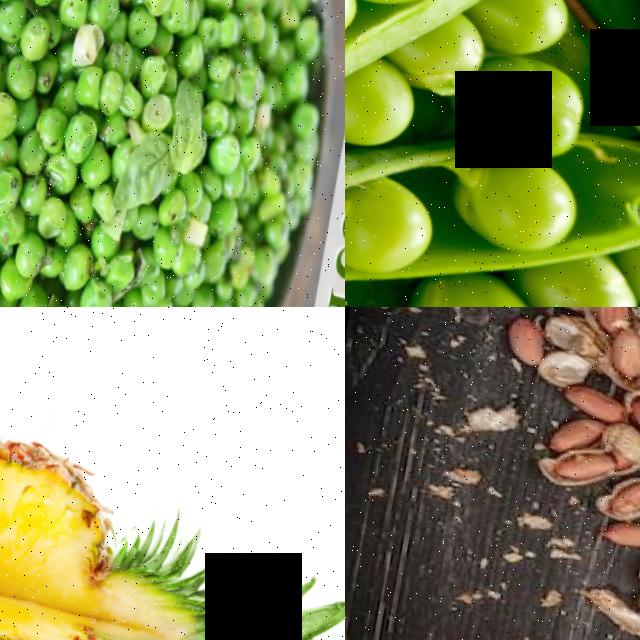peanuts: (499, 308, 557, 365), (562, 374, 630, 419), (606, 315, 640, 374), (602, 509, 640, 547), (630, 385, 640, 432)
peas: (0, 0, 320, 307), (345, 87, 640, 307), (345, 0, 587, 111)
pineapple: (0, 425, 298, 640)
